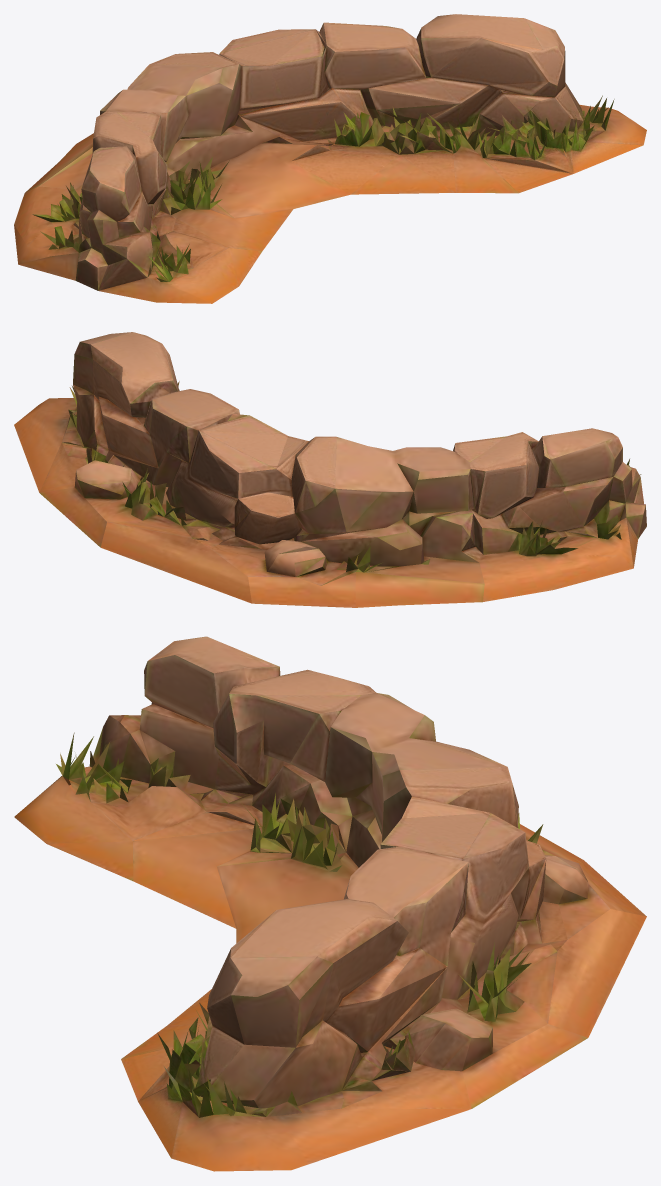
Rendered from west_stonewall_straight.glb.
3 renders of one model, top to bottom at view 1: azimuth 30°, elevation 25°; view 2: azimuth 150°, elevation 25°; view 3: azimuth 270°, elevation 25°, orthographic. The views are drawn at different scales.
Parts seen in each view (by area): view 1: mesh_node; view 2: mesh_node; view 3: mesh_node.
Part boxes in pixels (x1,y1,x2,y2): mesh_node: [14, 14, 646, 303]; mesh_node: [14, 332, 646, 607]; mesh_node: [14, 636, 646, 1171].
Size of the model in its own units: 1.89 by 0.3373 by 1.18.
Materials: 1 (1 with a texture image).
